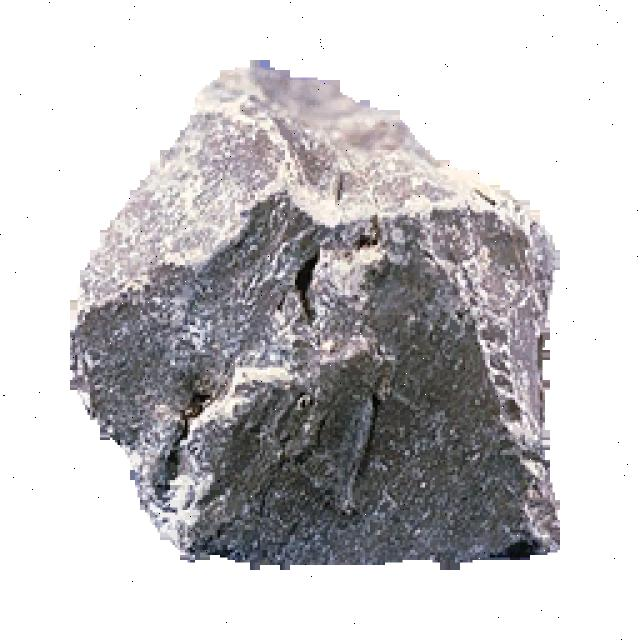Sedimentary: (75, 60, 577, 570)
